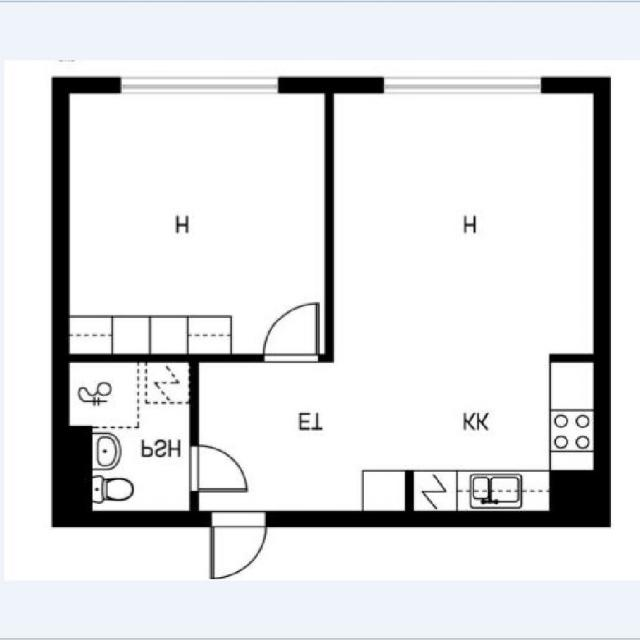door: (211, 511, 267, 578), (264, 303, 319, 362), (192, 445, 248, 491)
